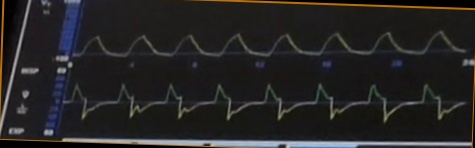Premature_cycling Flow: (68, 70, 467, 132)
Premature_cycling Volume: (76, 16, 469, 59)
